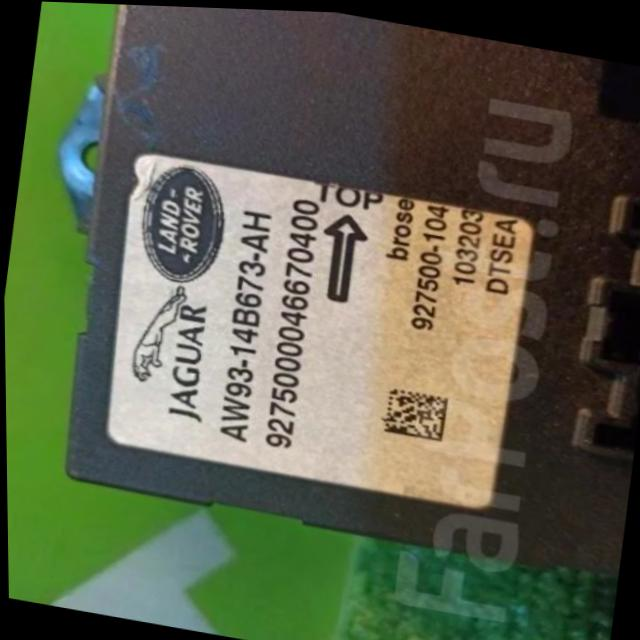datamatrix: (382, 383, 449, 439)
